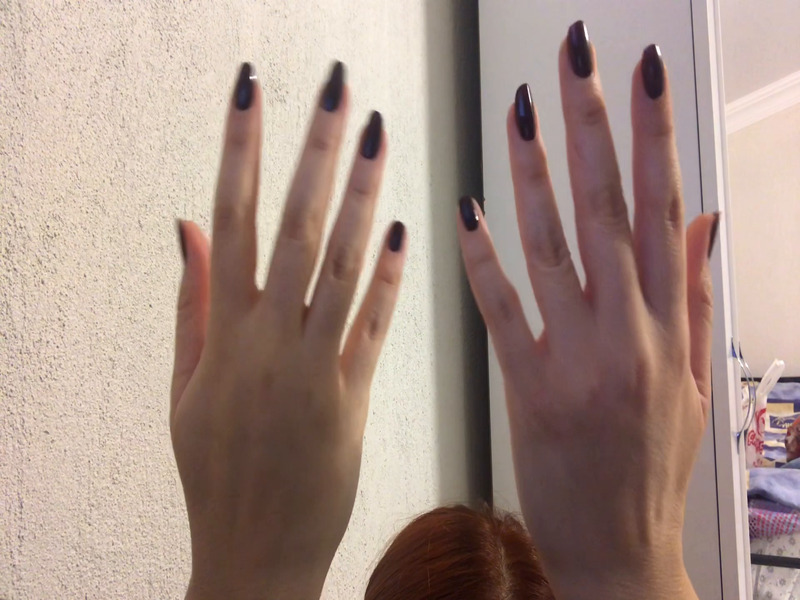hand: (444, 18, 741, 534), (170, 50, 411, 522)
